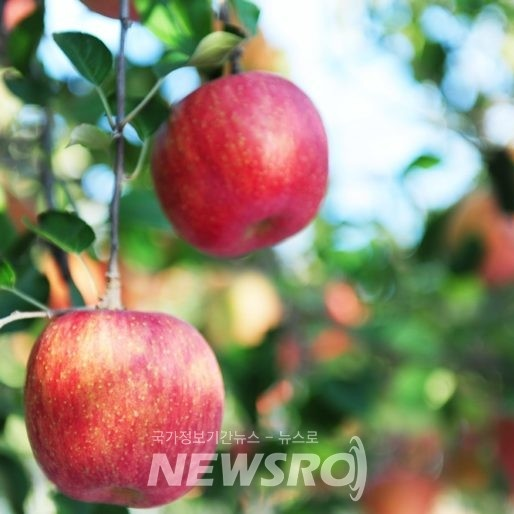apple: (26, 304, 223, 500), (151, 75, 329, 252)
